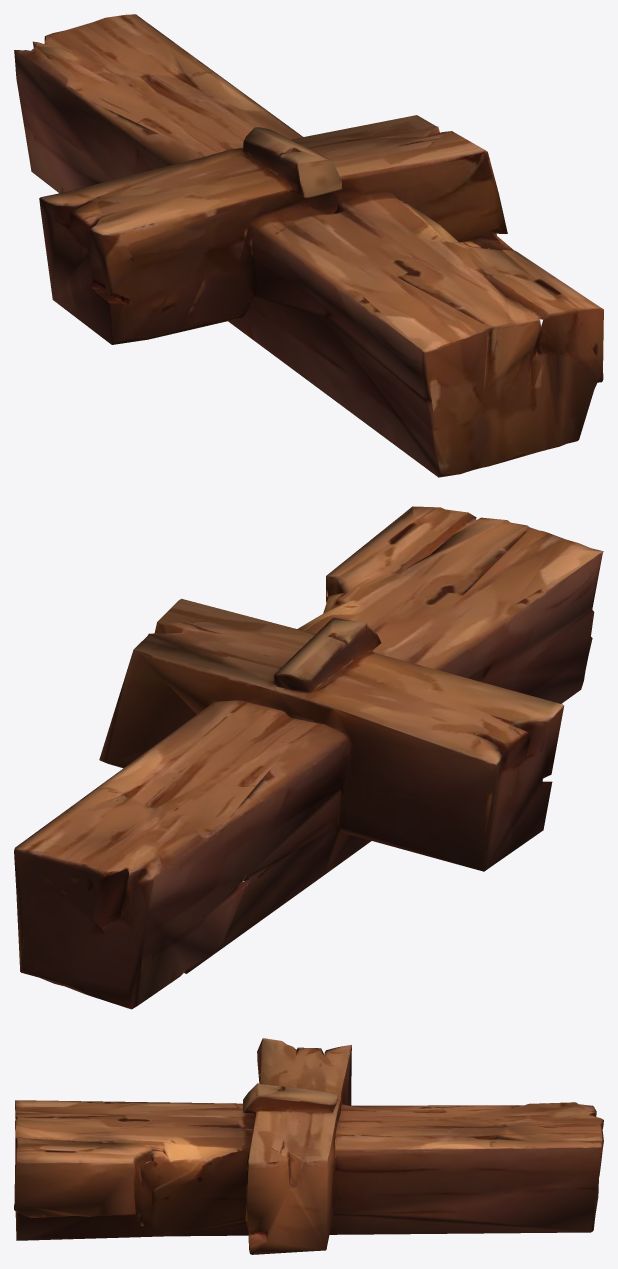
Rendered from deb_wood.glb.
The picture shows the model from 3 angles, top to bottom: view 1: azimuth 30°, elevation 25°; view 2: azimuth 150°, elevation 25°; view 3: azimuth 270°, elevation 25°; orthographic projection. The views are drawn at different scales.
Parts seen in each view (by area): view 1: tripo_node_b95fb305; view 2: tripo_node_b95fb305; view 3: tripo_node_b95fb305.
Part boxes in pixels (box(x1,y1,x2,y2)): tripo_node_b95fb305: box(14, 14, 603, 477); tripo_node_b95fb305: box(14, 506, 603, 1009); tripo_node_b95fb305: box(14, 1038, 603, 1254).
Bounding box in the file's own units: 54.81 × 24.04 × 99.69.
1 material, 1 textured.
